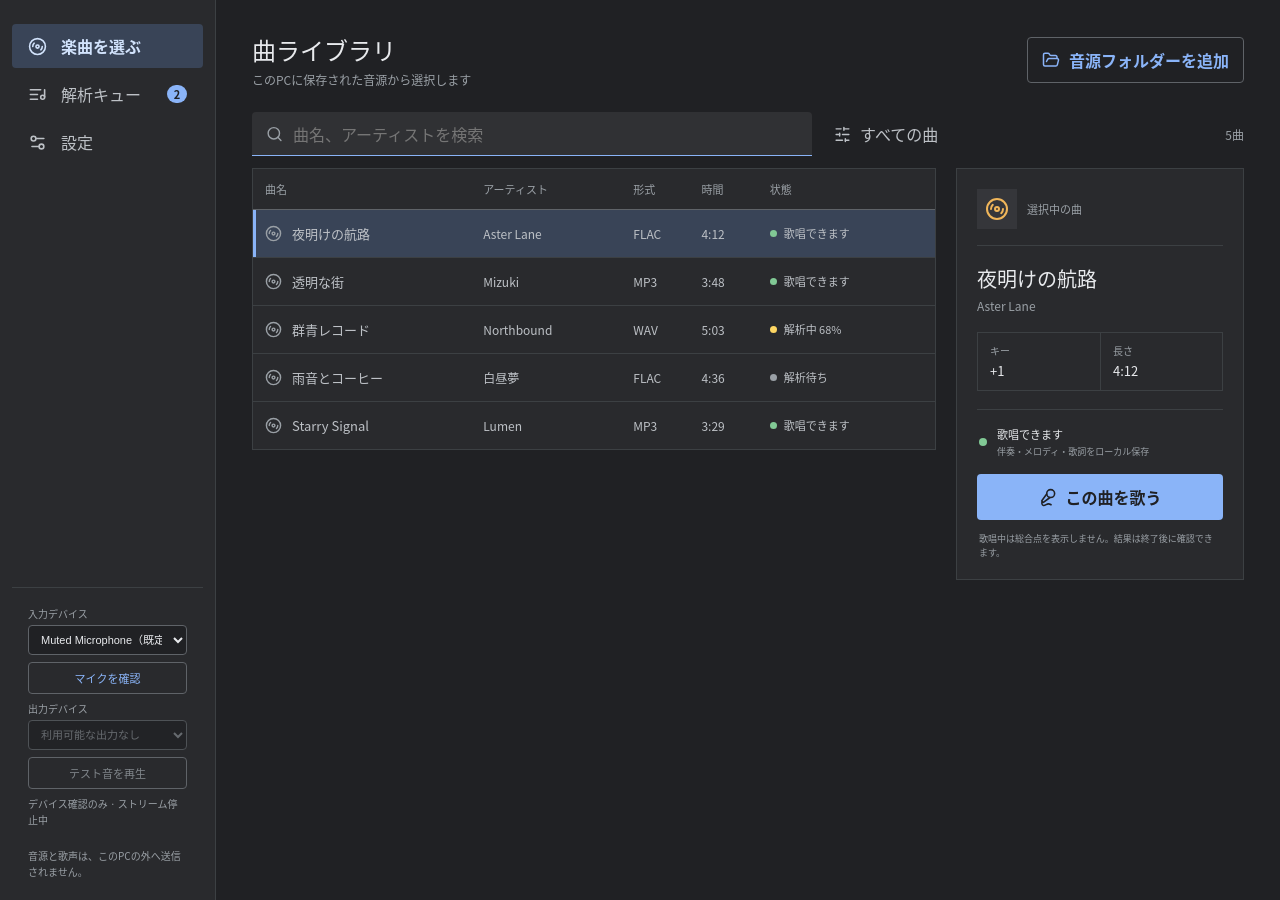
Scenario: song library › does not claim that microphone audio was detected when callbacks contain silence
This screenshot has width=1280, height=900.
Click the button "マイクを確認" at (108,678), box [28,662,187,694]
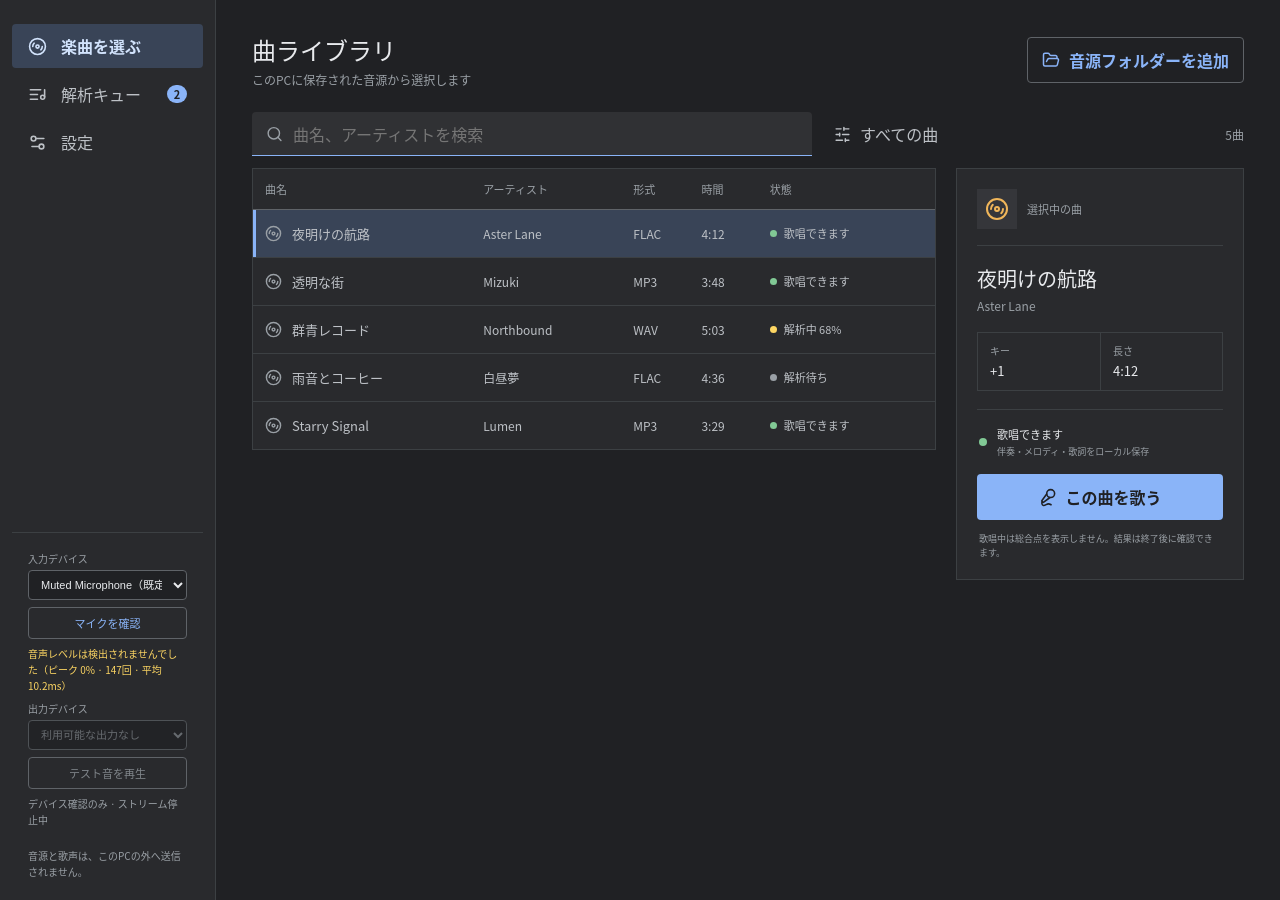
Now the message reads "音声レベルは検出されませんでした（ピーク 0% · 147回 · 平均10.2ms）", box [28,646,187,694]
